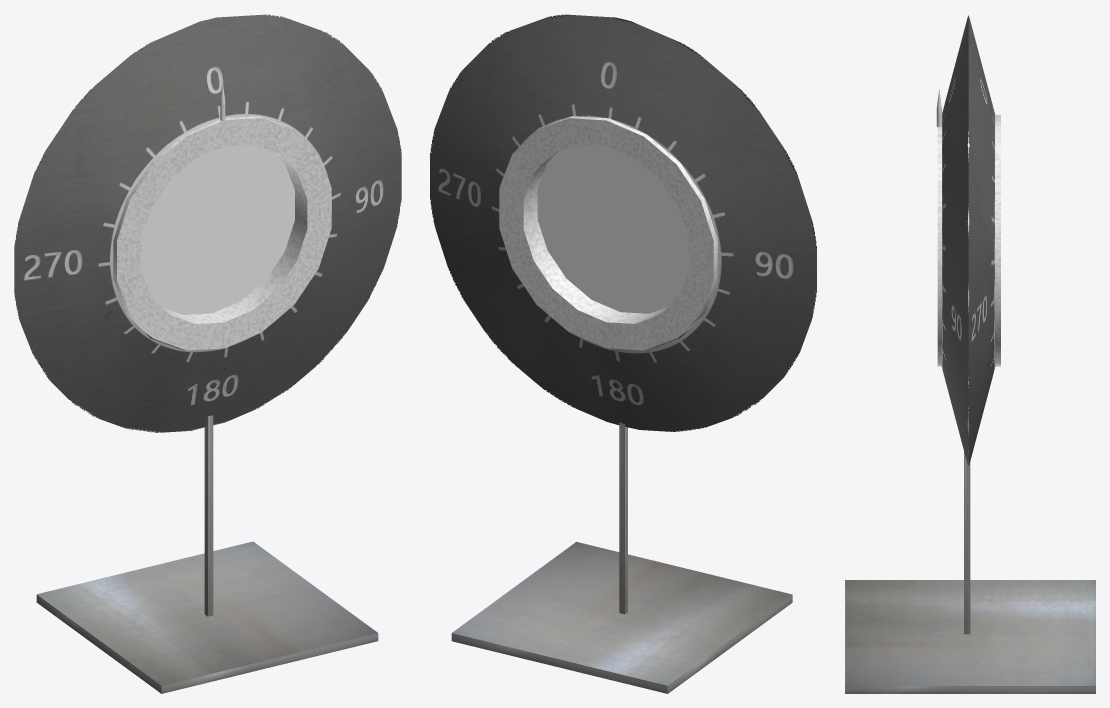
The model's file is prolazation2.FBX.
The picture shows the model from 3 angles, left to right: view 1: azimuth 30°, elevation 25°; view 2: azimuth 150°, elevation 25°; view 3: azimuth 270°, elevation 25°; orthographic projection.
Parts seen in each view (by area): view 1: Tube001, Box002, Cylinder001, Cone002; view 2: Tube001, Box002, Cone002, Cylinder001; view 3: Box002, Tube001, Cone002.
Boxes of the visible parts, x1,y1,x2,y2 form: Tube001: [14, 14, 401, 432]; Box002: [36, 415, 378, 693]; Cylinder001: [141, 144, 294, 314]; Cone002: [113, 82, 331, 350]; Tube001: [430, 14, 816, 431]; Box002: [451, 422, 792, 693]; Cone002: [499, 115, 717, 350]; Cylinder001: [537, 145, 688, 313]; Box002: [845, 412, 1095, 693]; Tube001: [941, 15, 995, 465]; Cone002: [936, 89, 1000, 366].
Size of the model in its own units: 53.66 by 79.98 by 30.
4 materials, 3 textured.
